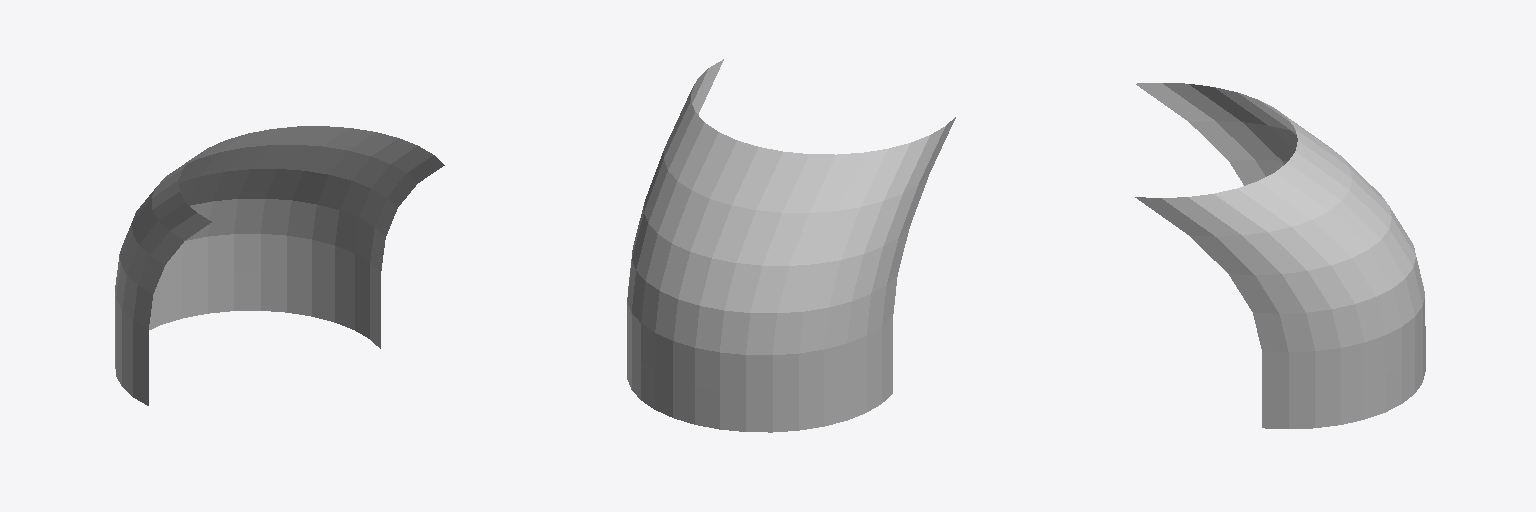
The model's file is sky_dome.obj.
3 renders of one model, left to right at view 1: azimuth 30°, elevation 25°; view 2: azimuth 150°, elevation 25°; view 3: azimuth 270°, elevation 25°, orthographic.
Visible parts, largest first — view 1: Cylinder; view 2: Cylinder; view 3: Cylinder.
Boxes of the visible parts, box(x1,y1,x2,y2) form: Cylinder: box(115, 126, 444, 405); Cylinder: box(627, 59, 955, 432); Cylinder: box(1135, 83, 1425, 428).
Bounding box in the file's own units: 84.36 × 78.71 × 89.73.